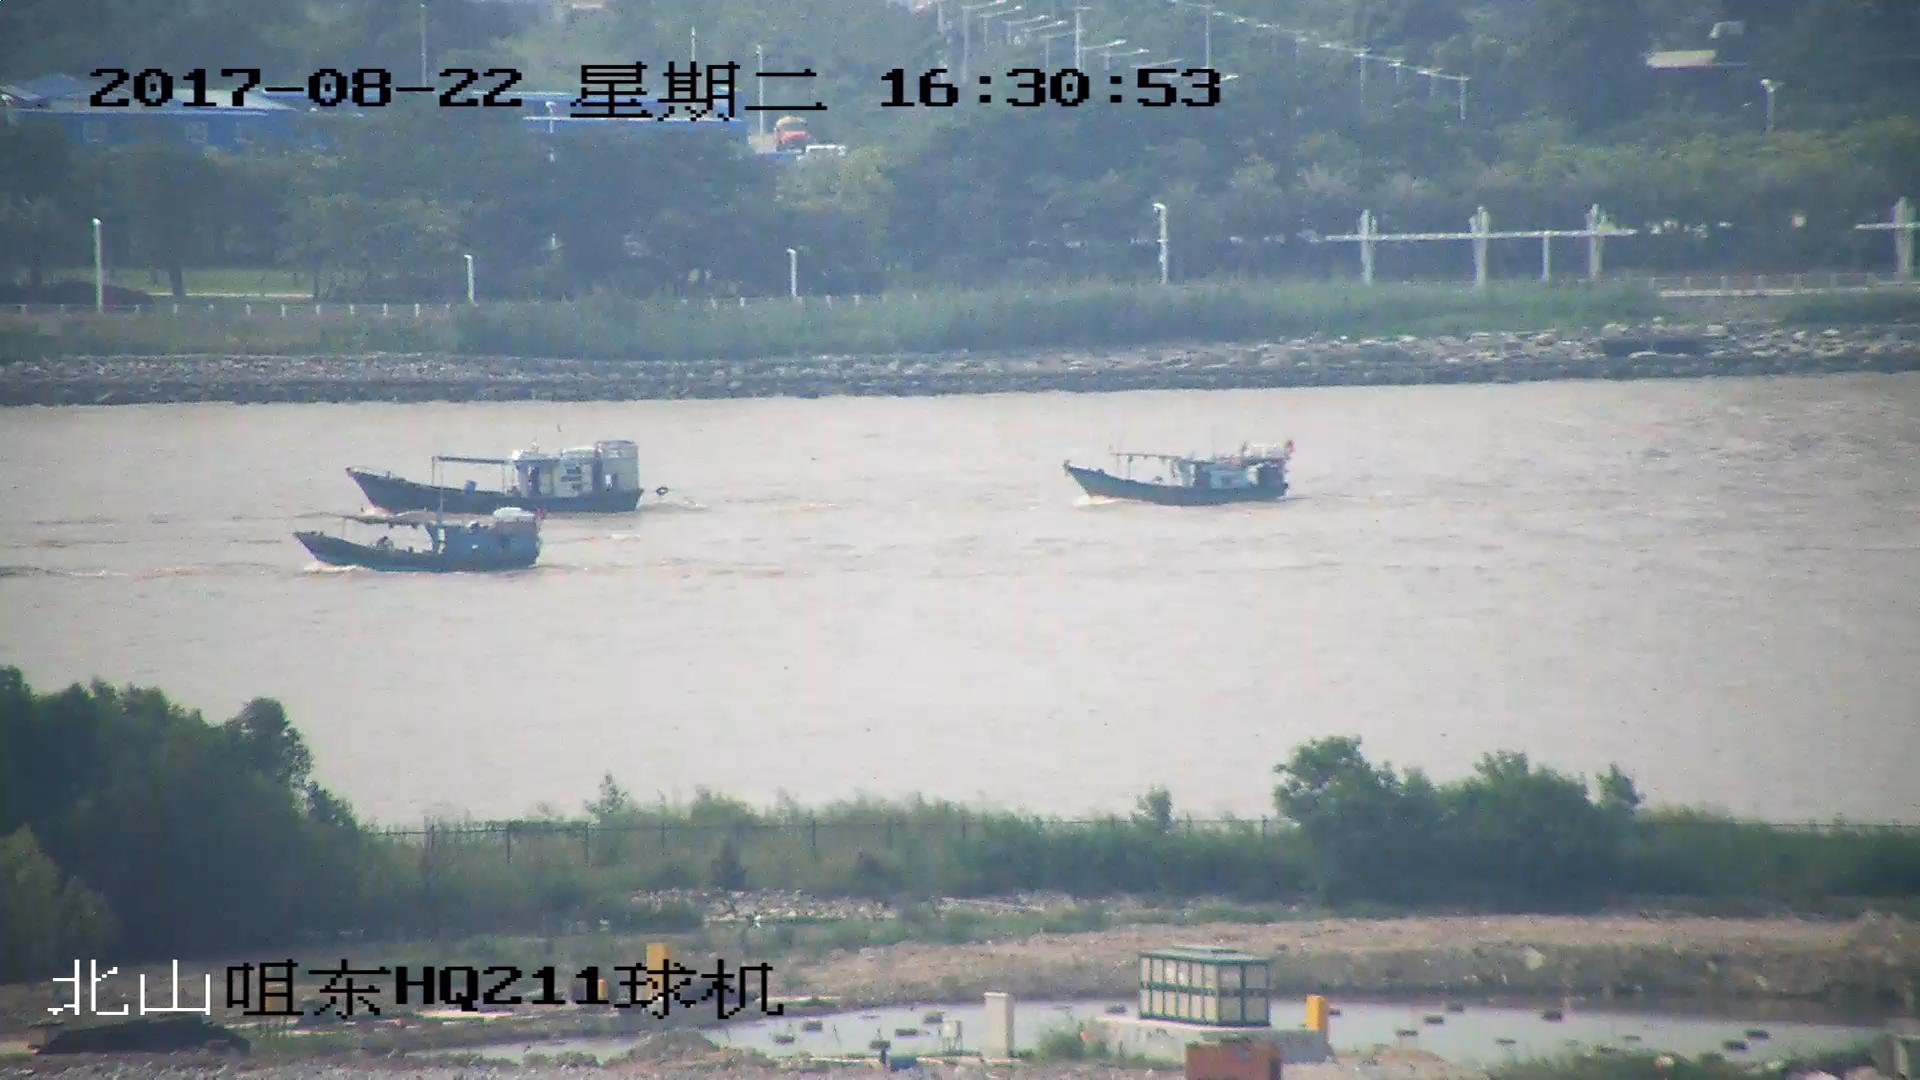fishing boat: (342, 441, 638, 512), (301, 508, 538, 574), (1065, 444, 1295, 505)
